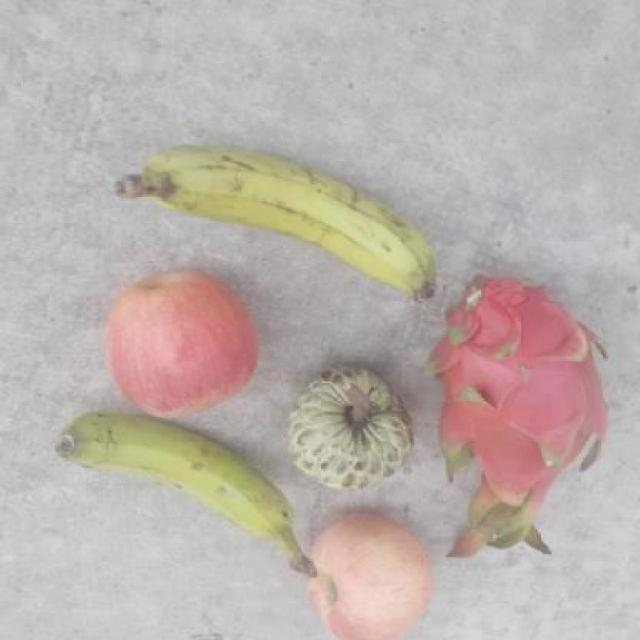apple: (101, 271, 258, 418), (304, 510, 438, 639)
banana: (112, 146, 441, 303), (52, 414, 319, 577)
dragon fruit: (422, 272, 613, 556)
sugar apple: (286, 364, 417, 491)
